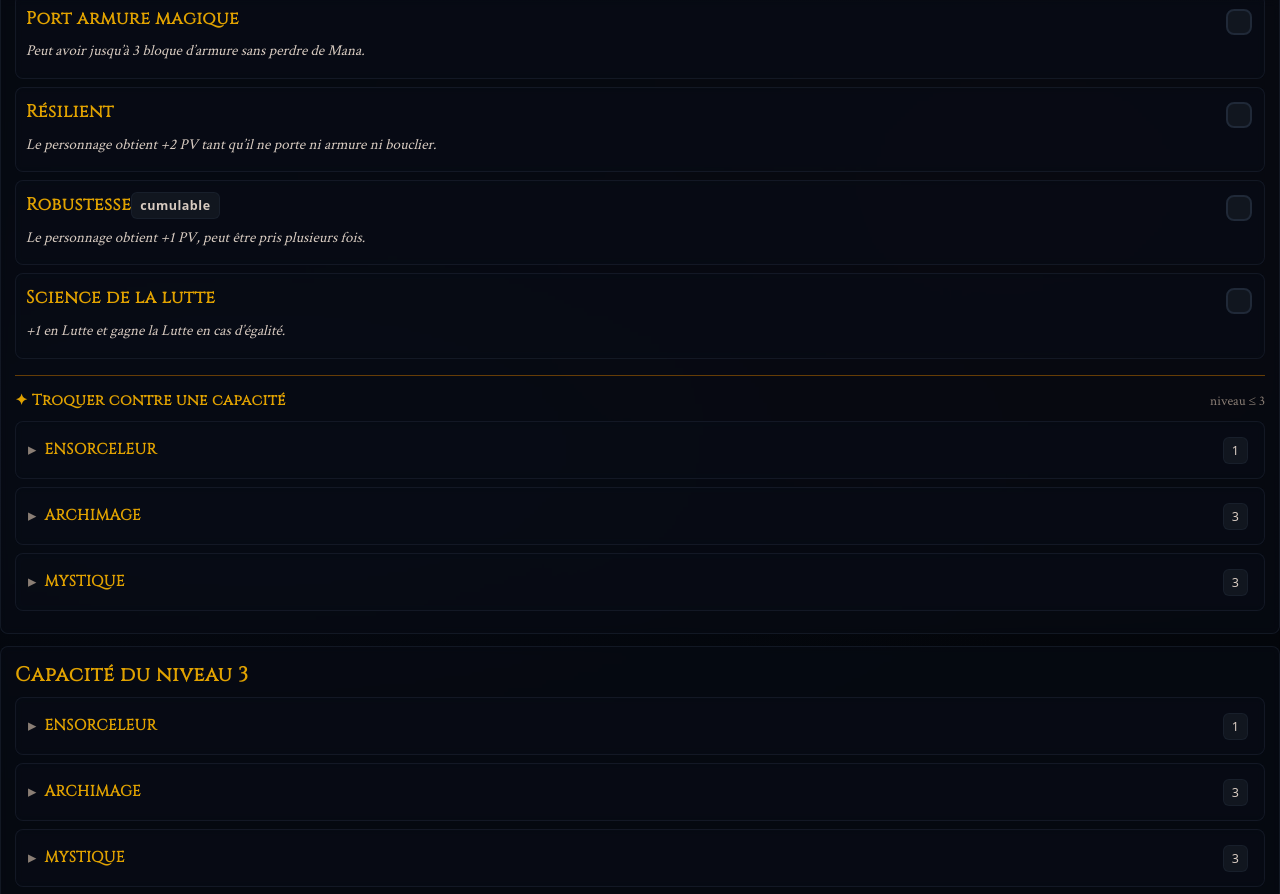
Test: D18 ② — sous les dons de l’échelon, les voies de la classe › une capacité au-dessus de l’échelon est indisponible, avec la raison affichée
(page scrolled)
Click the button "▸ Ensorceleur 1" below "✦ Troquer contre une capacité" at (101, 450), box [16,422,1264,478]
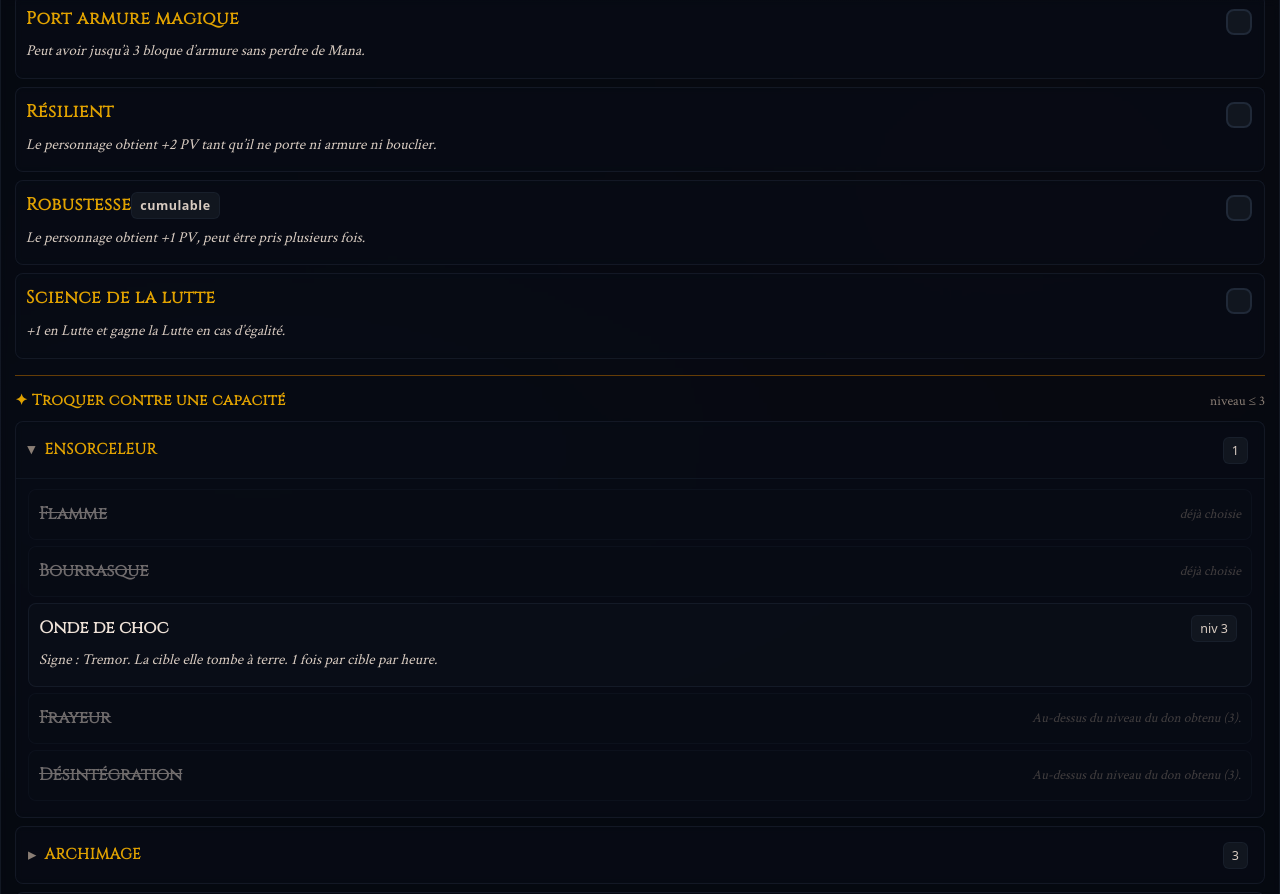
Result: the text "Frayeur" is shown at [39,704,111,733]
